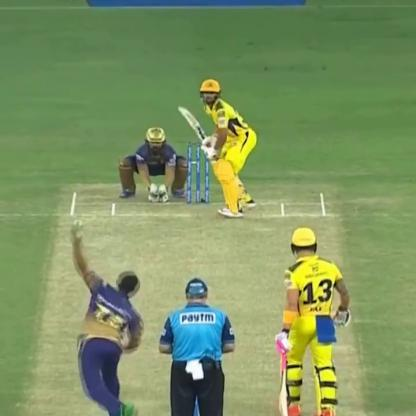ball: (68, 216, 87, 231)
bat: (173, 98, 214, 152)
pitch: (20, 180, 362, 416)
